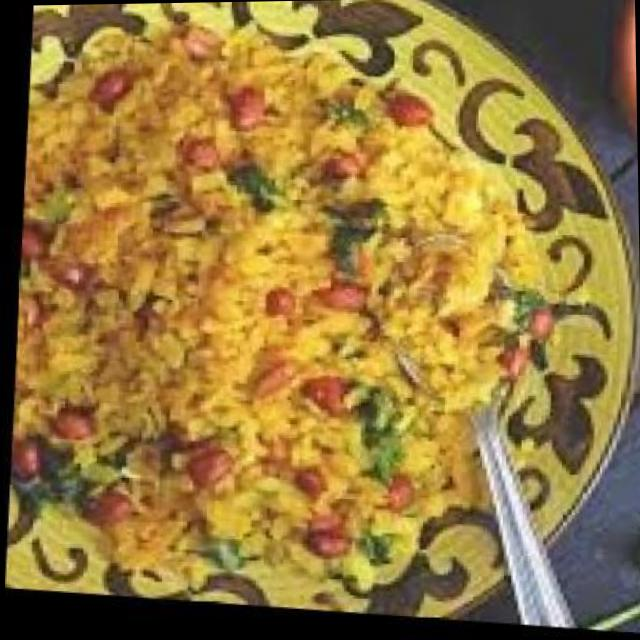poha: (0, 11, 567, 624)
